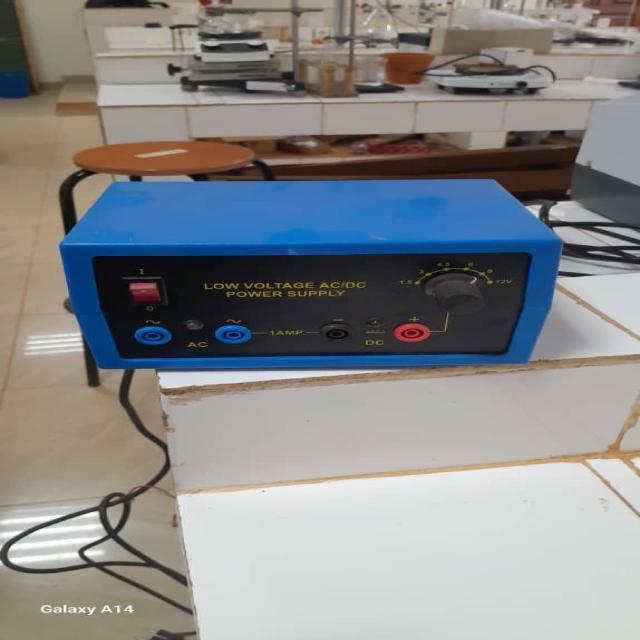Power Supply: (46, 176, 564, 380)
